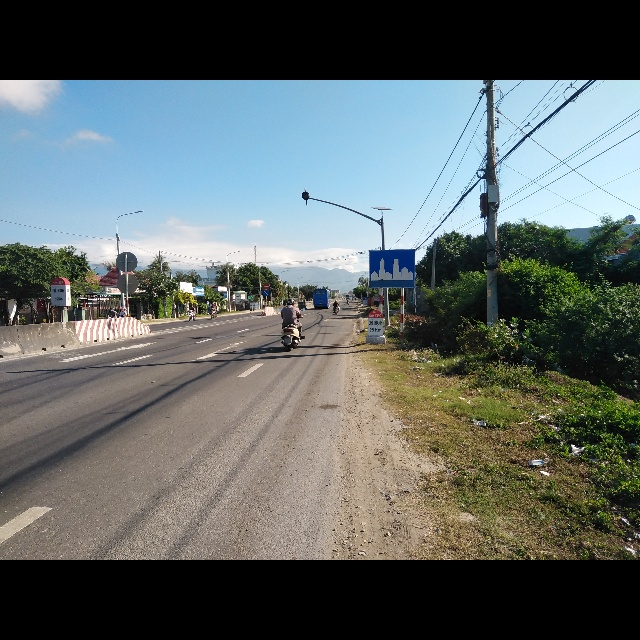Khu đông dân cư: (369, 248, 417, 287)
